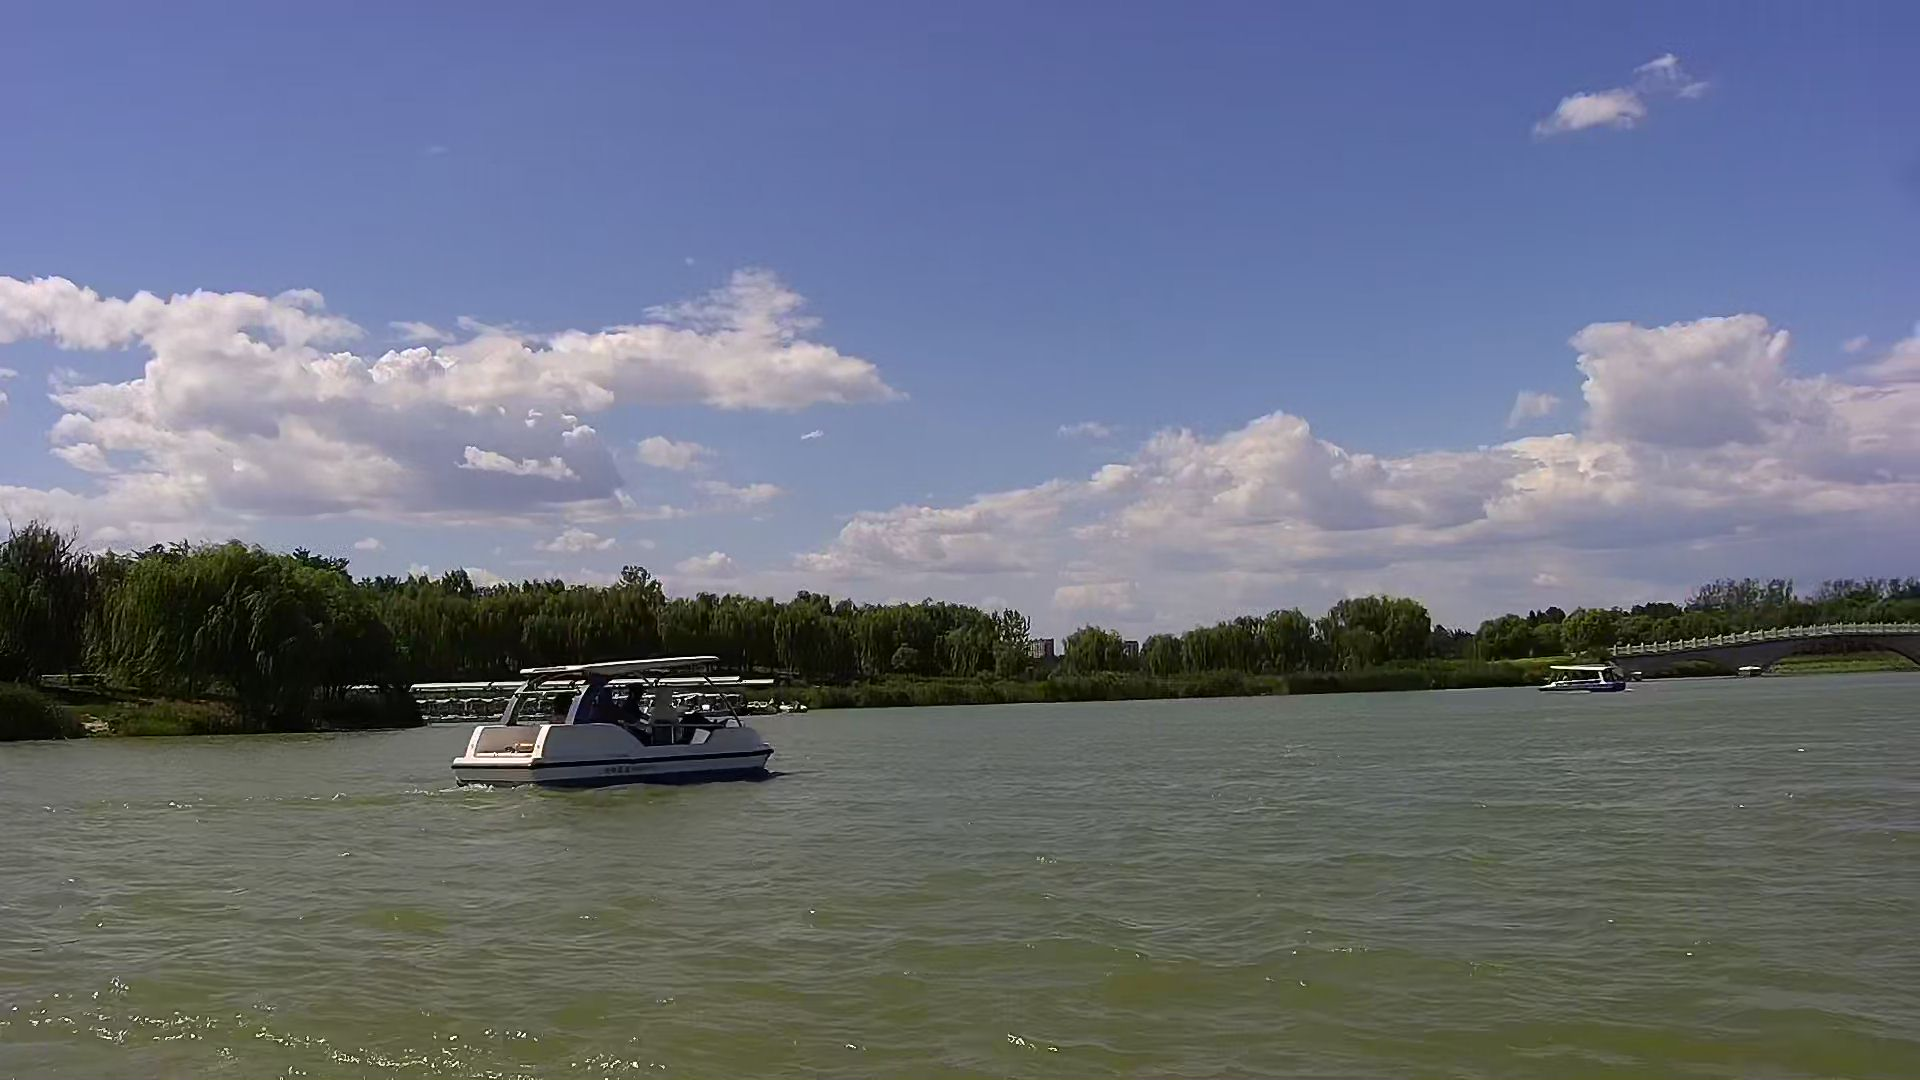boat: (440, 655, 796, 804), (1534, 654, 1629, 705)
